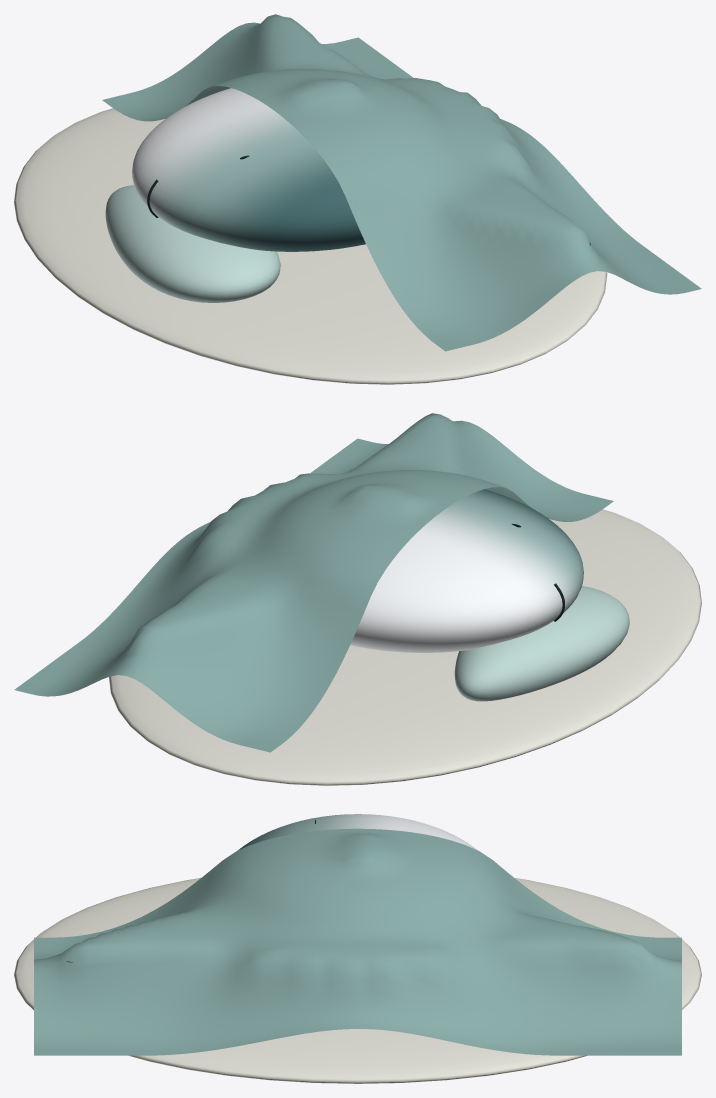
Rendered from covered.glb.
3 renders of one model, top to bottom at view 1: azimuth 30°, elevation 25°; view 2: azimuth 150°, elevation 25°; view 3: azimuth 270°, elevation 25°, orthographic. The views are drawn at different scales.
Parts seen in each view (by area): view 1: KiabouBlanket, KiabouBed, KiabouRestBody, KiabouPillow; view 2: KiabouBlanket, KiabouBed, KiabouRestBody, KiabouPillow; view 3: KiabouBlanket, KiabouBed, KiabouRestBody.
Part boxes in pixels (bbox=[...]): KiabouBlanket: bbox=[102, 14, 701, 351]; KiabouBed: bbox=[14, 108, 607, 384]; KiabouRestBody: bbox=[132, 88, 590, 251]; KiabouPillow: bbox=[105, 185, 280, 302]; KiabouBlanket: bbox=[14, 413, 613, 752]; KiabouBed: bbox=[109, 509, 701, 785]; KiabouRestBody: bbox=[350, 489, 583, 652]; KiabouPillow: bbox=[454, 586, 629, 701]; KiabouBlanket: bbox=[34, 828, 681, 1055]; KiabouBed: bbox=[14, 878, 701, 1083]; KiabouRestBody: bbox=[66, 814, 477, 962].
Size of the model in its own units: 0.228 by 0.0768 by 0.308.
Materials: 7 (3 with a texture image).
